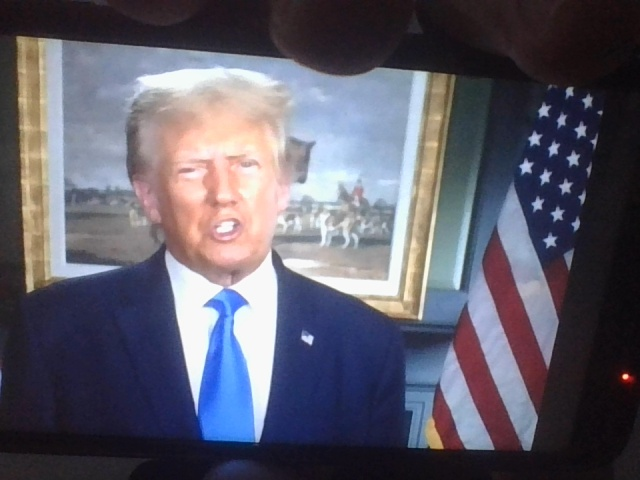fake: (146, 63, 297, 277)
